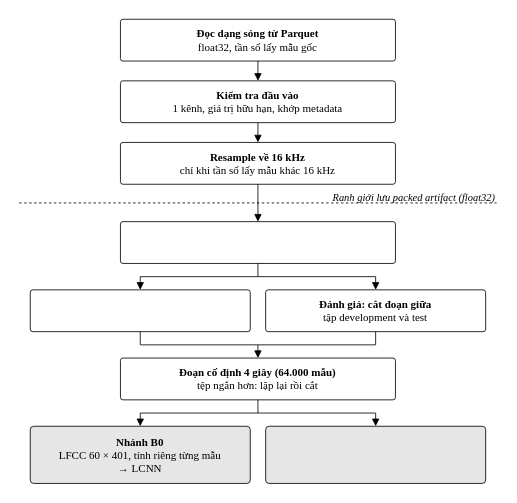
Image size: 517x503. Some labels were removed from this diagram. The shapes that lost their labels are listed below. From the top down, each one's centre as x and y in pixels, then its label:
At point 257,242: "Chính sách biên độ peak đỉnh về 0,95; không khuếch đại đoạn < −50 dBFS".
At point 139,310: "Huấn luyện: cắt ngẫu nhiên vị trí cắt theo seed và epoch".
At point 375,454: "Nhánh X0/X1 chuẩn hóa: trung bình 0, phương sai 1 → XLS-R 300M".
